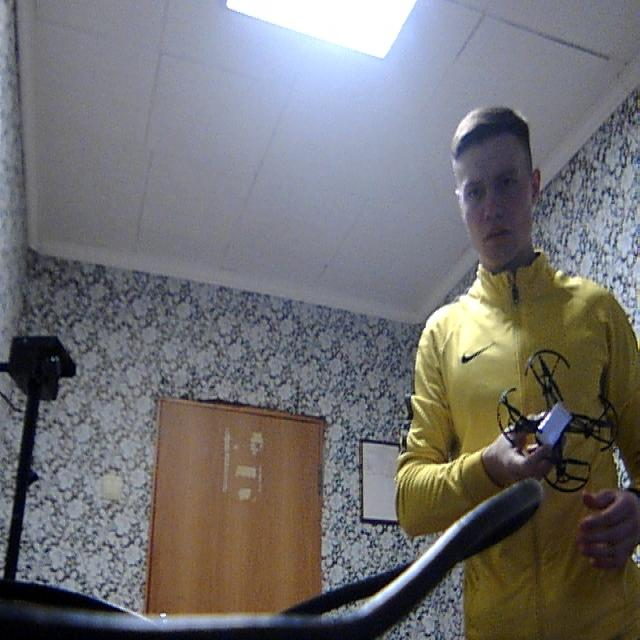drone: (490, 337, 624, 501)
